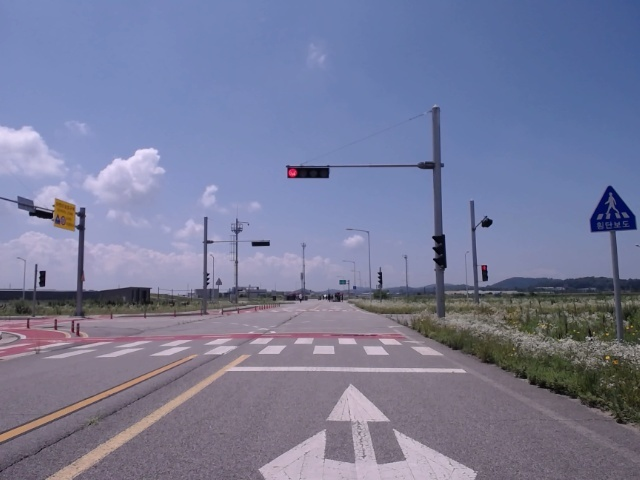red_4: (287, 167, 330, 179)
